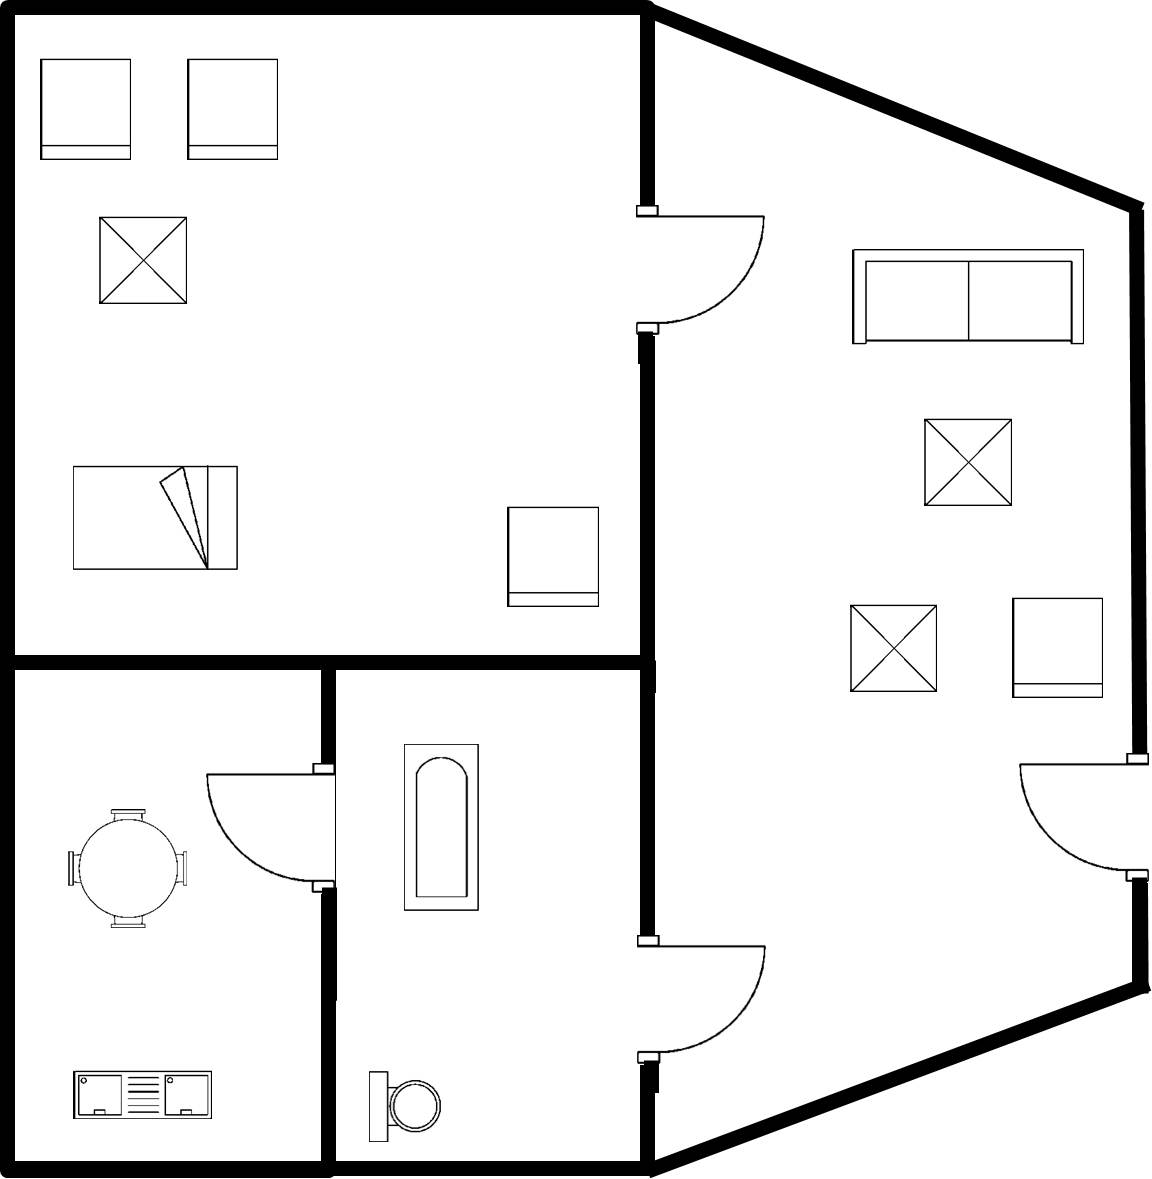bed: (61, 456, 249, 582)
coffee_table: (837, 594, 946, 702), (88, 206, 195, 316), (915, 411, 1023, 516)
large_sink: (358, 1060, 454, 1148)
large_sofa: (837, 240, 1092, 355)
round_table: (56, 798, 199, 937)
small_sofa: (173, 50, 294, 171), (999, 589, 1117, 706), (493, 497, 606, 617), (31, 50, 140, 168)
tub: (394, 739, 495, 925)
twin_sink: (62, 1059, 223, 1133)
